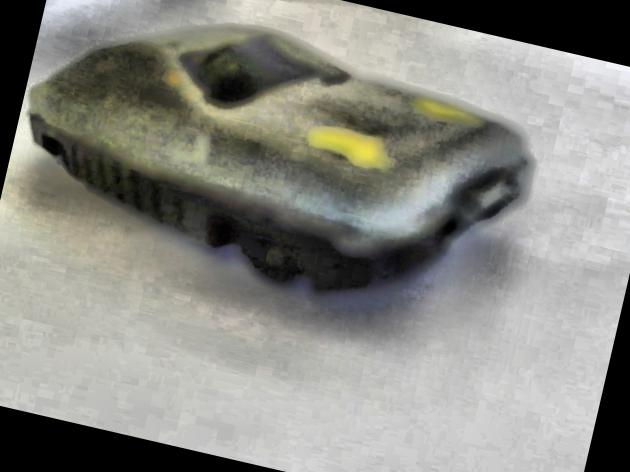normal_car: (0, 0, 555, 340)
